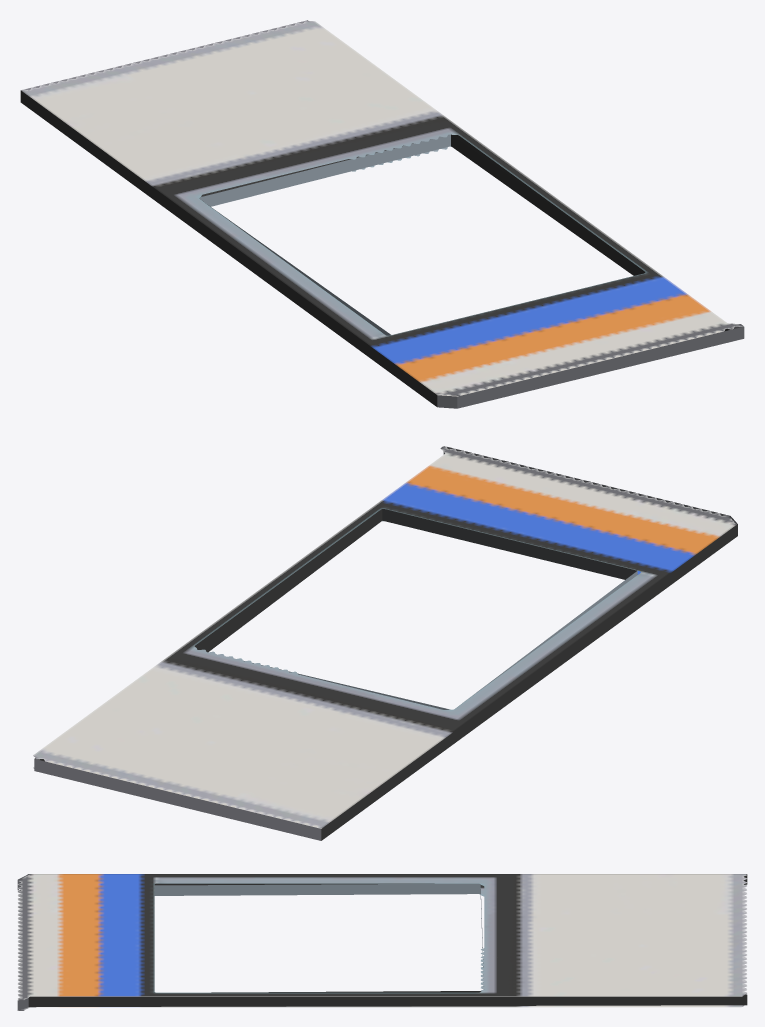
File: pz_native_location_shop_fossoil_01_0_frame.obj
3 renders of one model, top to bottom at view 1: azimuth 30°, elevation 25°; view 2: azimuth 150°, elevation 25°; view 3: azimuth 270°, elevation 25°, orthographic. The views are drawn at different scales.
Visible parts, largest first — view 1: pz_native_location_shop_fossoil_01_0_frame; view 2: pz_native_location_shop_fossoil_01_0_frame; view 3: pz_native_location_shop_fossoil_01_0_frame.
Part boxes in pixels (x1,y1,x2,y2): pz_native_location_shop_fossoil_01_0_frame: [20, 20, 744, 408]; pz_native_location_shop_fossoil_01_0_frame: [33, 446, 737, 840]; pz_native_location_shop_fossoil_01_0_frame: [17, 874, 747, 1010].
Bounding box in the file's own units: 1.06 × 0.04 × 2.54.
1 material, 1 textured.
